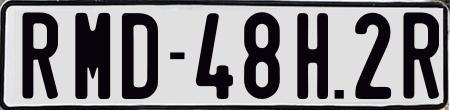2: (353, 13, 393, 101)
4: (195, 10, 238, 96)
8: (241, 10, 279, 103)
D: (122, 11, 158, 100)
H: (295, 11, 327, 101)
M: (75, 11, 112, 103)
R: (22, 12, 64, 105), (401, 9, 433, 98)
